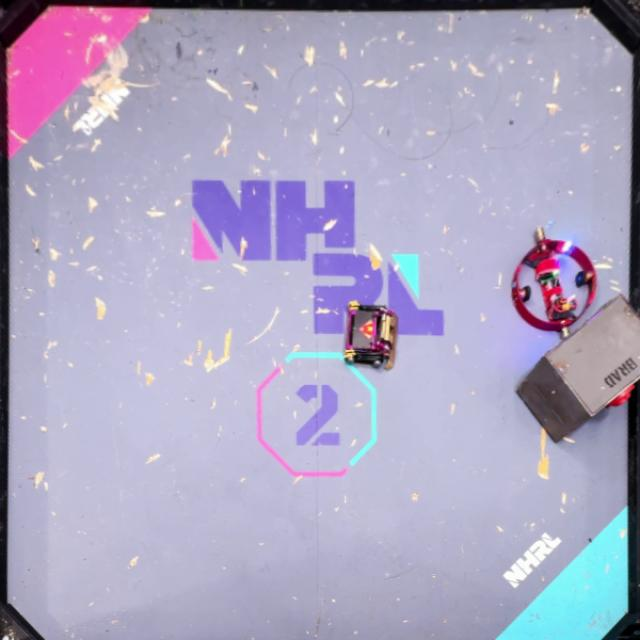housebot: (515, 292, 640, 442)
robot: (512, 226, 598, 338), (344, 300, 398, 370)
